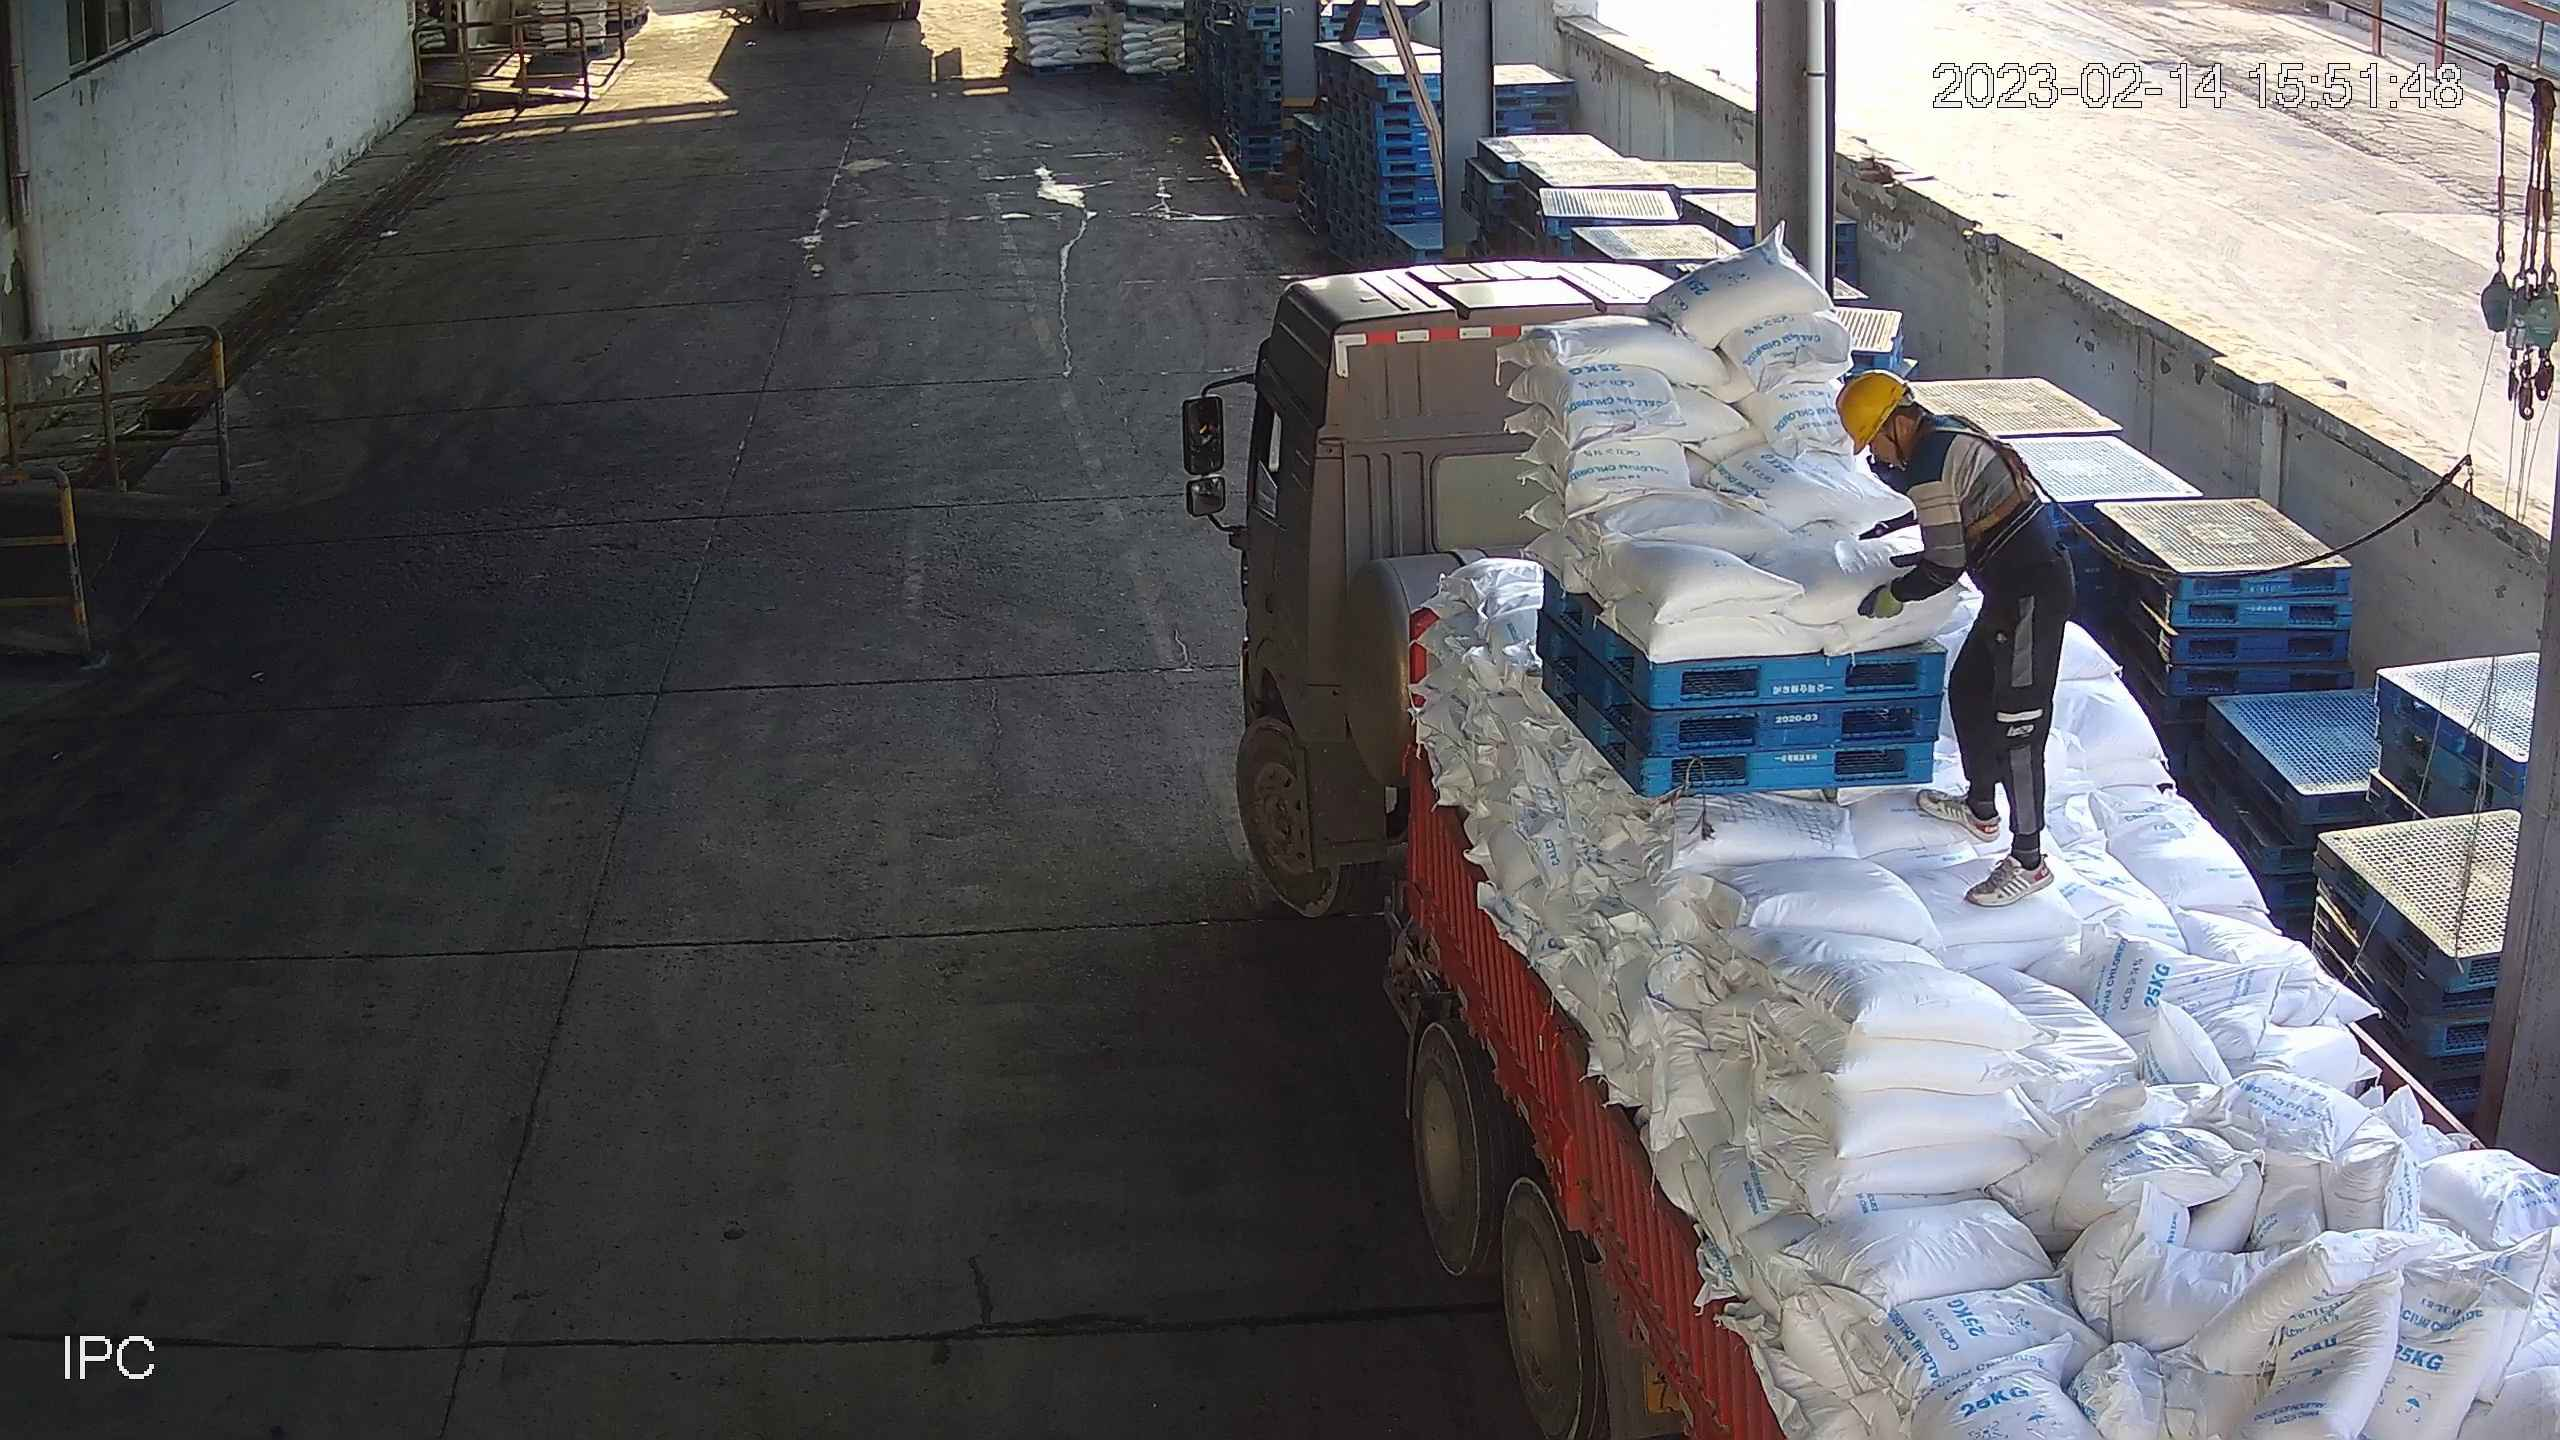belt: (1932, 415, 2044, 532)
head: (1838, 369, 1986, 516)
helmet: (1832, 367, 1914, 453)
people: (1832, 367, 2081, 908)
truck: (1169, 248, 2560, 1440)
